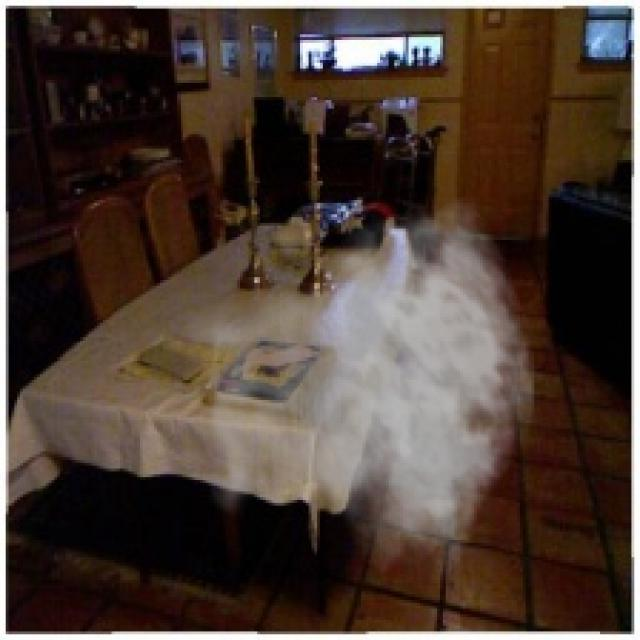Smoke: (174, 197, 537, 583)
